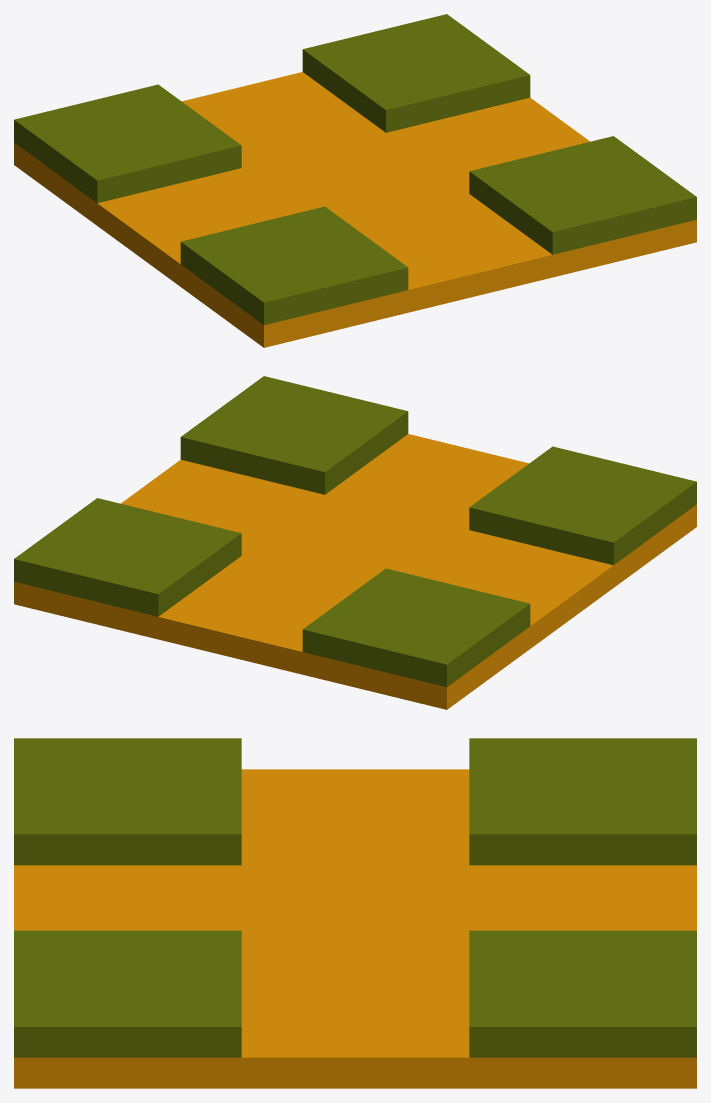
File: FarmCrossing_01.fbx
3 views of the same model, one above another, from view 1: azimuth 30°, elevation 25°; view 2: azimuth 150°, elevation 25°; view 3: azimuth 270°, elevation 25° (orthographic). The views are drawn at different scales.
Parts seen in each view (by area): view 1: FarmCrossing_01; view 2: FarmCrossing_01; view 3: FarmCrossing_01.
Part boxes in pixels (bbox=[...]): FarmCrossing_01: bbox=[14, 14, 696, 347]; FarmCrossing_01: bbox=[14, 376, 696, 709]; FarmCrossing_01: bbox=[14, 738, 696, 1088].
Bounding box in the file's own units: 1 × 0.1 × 1.
